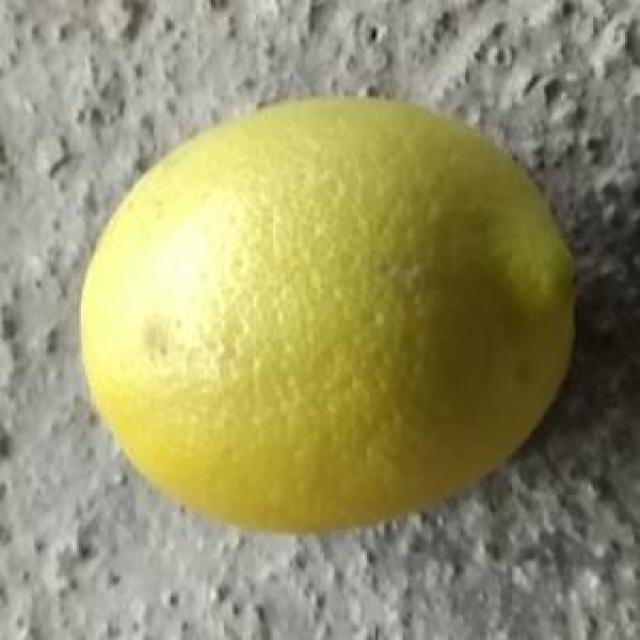lemon: (82, 94, 584, 537)
